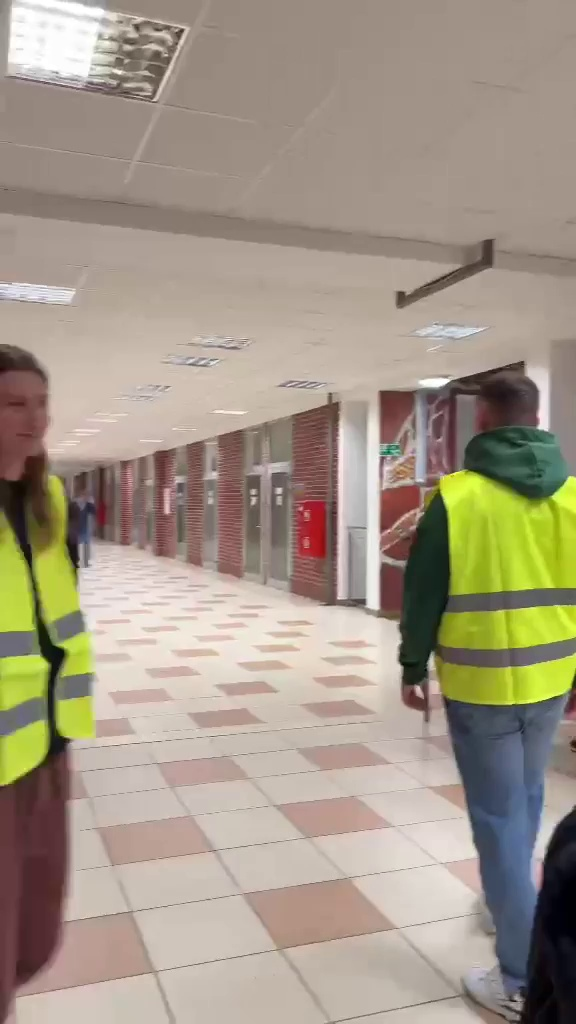vest: (399, 369, 575, 996), (0, 340, 96, 1007)
